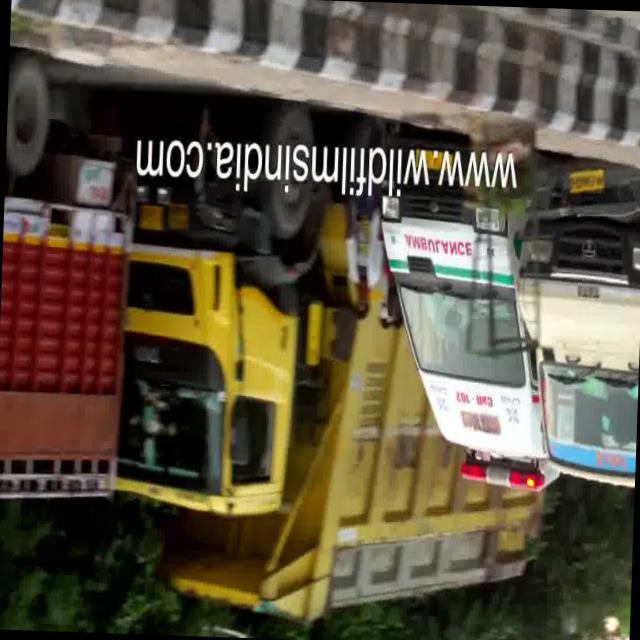ambulance: (368, 190, 550, 500)
